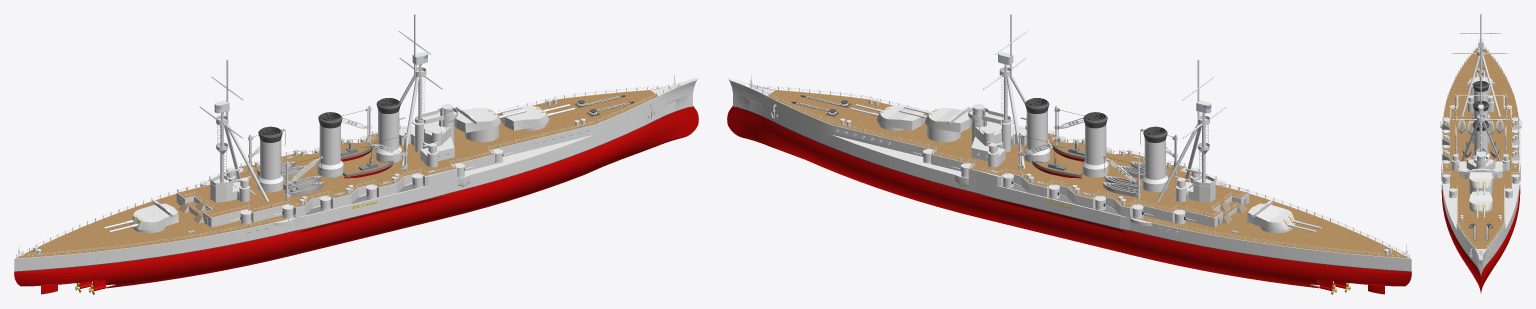
Rendered from hms_ardrossan.glb.
3 views of the same model, side by side, from view 1: azimuth 30°, elevation 25°; view 2: azimuth 150°, elevation 25°; view 3: azimuth 270°, elevation 25° (orthographic). The views are drawn at different scales.
Parts seen in each view (by area): view 1: Material2 (×13); view 2: Material2 (×13); view 3: Material2 (×20).
Boxes of the visible parts, x1,y1,x2,y2 form: Material2 (×13): (14, 14, 698, 294); Material2 (×13): (727, 14, 1411, 294); Material2 (×20): (1440, 14, 1521, 292).
Bounding box in the file's own units: 8776 × 2313 × 1334.
17 materials, 2 textured.
